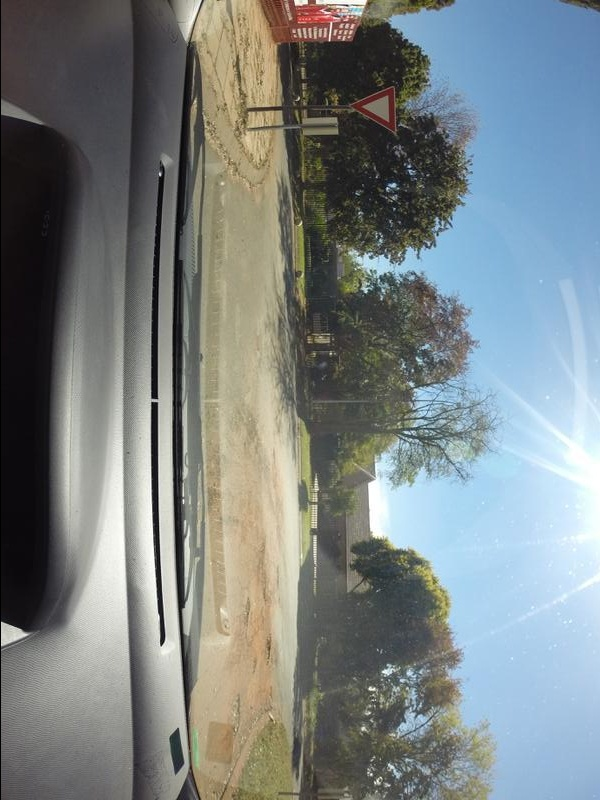pothole: (218, 699, 246, 734), (236, 597, 255, 634), (260, 576, 274, 605), (261, 635, 275, 662)
